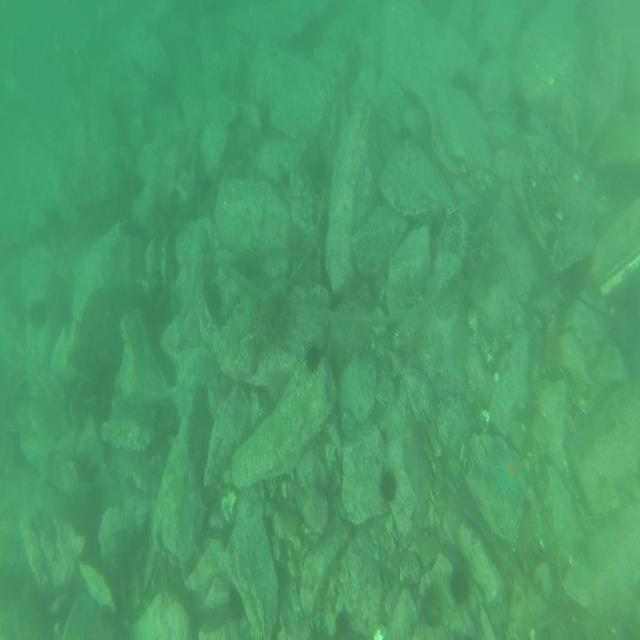echinus: (418, 583, 447, 631), (377, 462, 403, 512), (447, 563, 471, 609), (42, 203, 66, 242), (303, 337, 324, 377), (28, 296, 50, 334), (126, 166, 146, 206), (330, 608, 351, 640)
starfish: (497, 445, 522, 496)
